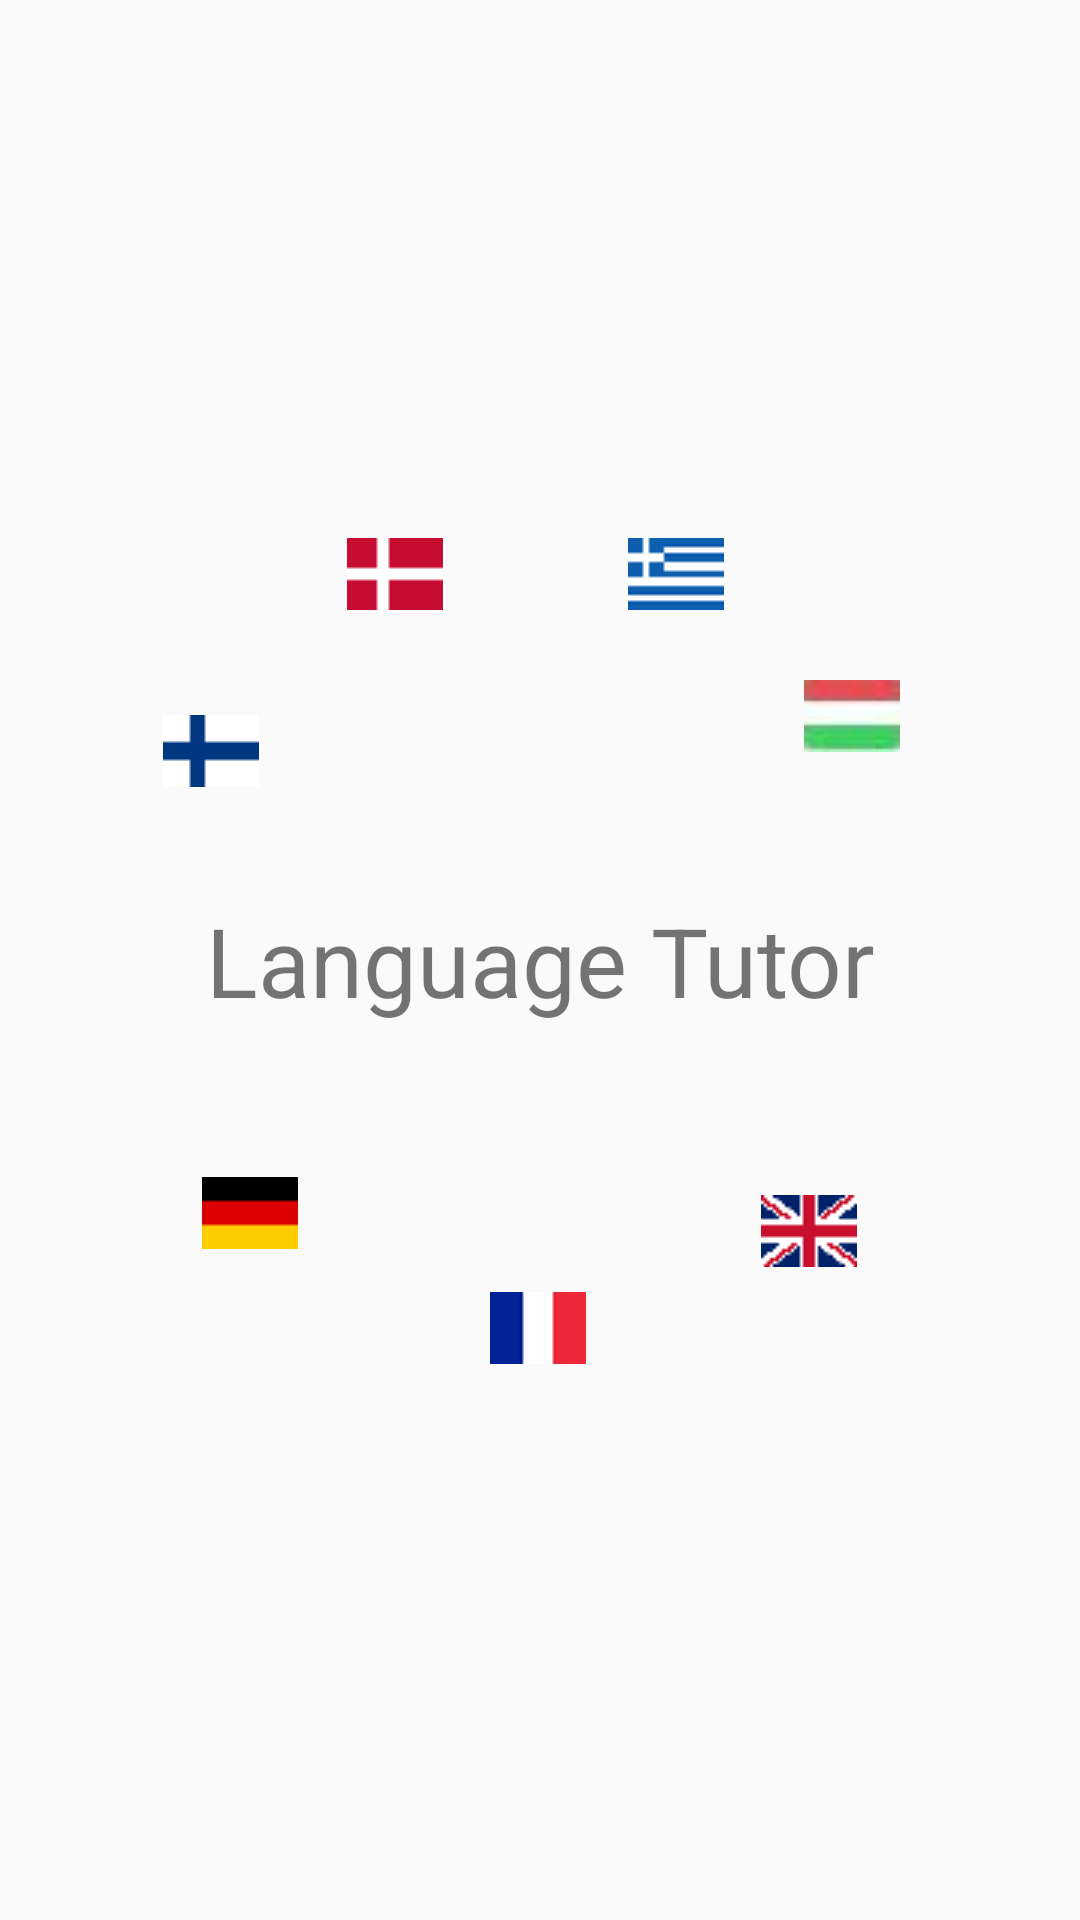

Where icons sit on this 1080 × 1920 app screen, as (x1, y1, x2, y2):
danish: (347, 538, 443, 610)
english: (761, 1195, 857, 1267)
fin: (163, 715, 259, 787)
flaghu: (804, 680, 900, 752)
french: (490, 1292, 586, 1364)
german: (202, 1177, 298, 1249)
greece: (628, 538, 724, 610)
